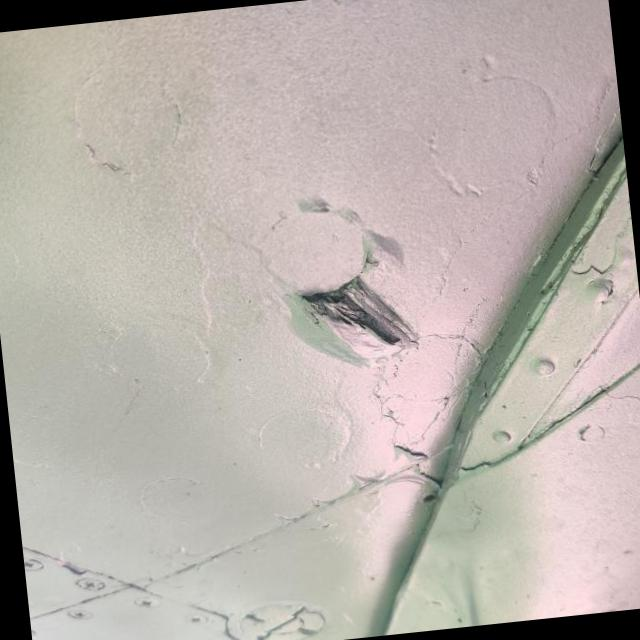Paint-off: (289, 275, 418, 365)
